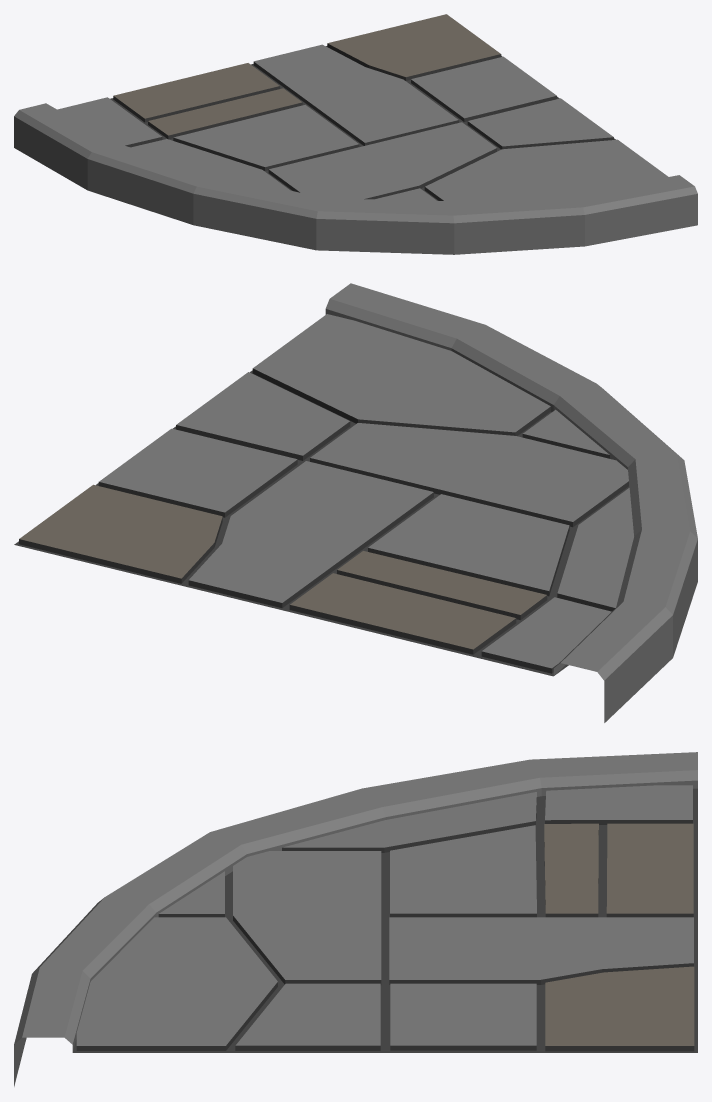
File: Walkway Modern A - 3.fbx
3 renders of one model, top to bottom at view 1: azimuth 30°, elevation 25°; view 2: azimuth 150°, elevation 25°; view 3: azimuth 270°, elevation 25°, orthographic. The views are drawn at different scales.
Parts seen in each view (by area): view 1: Walkway Modern A - 3.001; view 2: Walkway Modern A - 3.001; view 3: Walkway Modern A - 3.001.
Boxes of the visible parts, x1,y1,x2,y2 form: Walkway Modern A - 3.001: (14, 14, 697, 254); Walkway Modern A - 3.001: (14, 283, 697, 722); Walkway Modern A - 3.001: (14, 752, 697, 1086).
Bounding box in the file's own units: 333 × 334 × 27.01.
